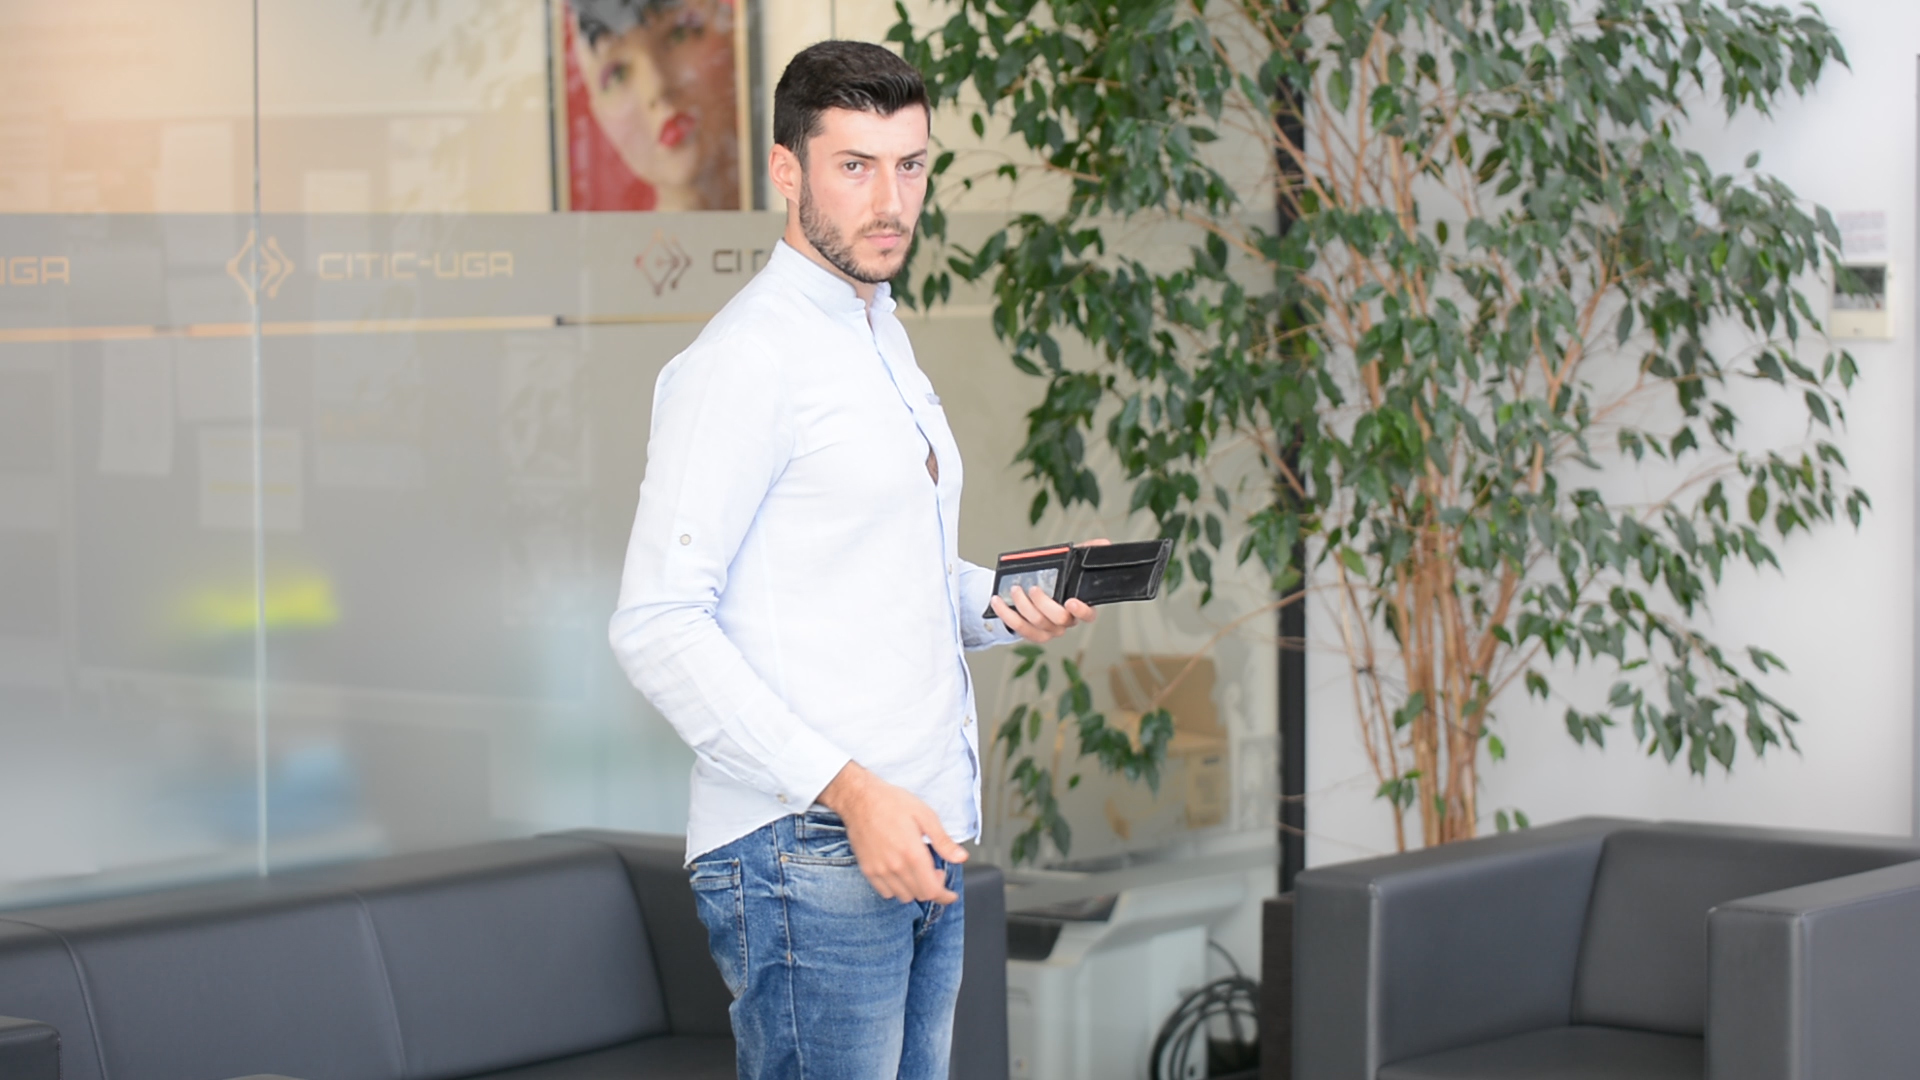monedero: (981, 535, 1175, 620)
